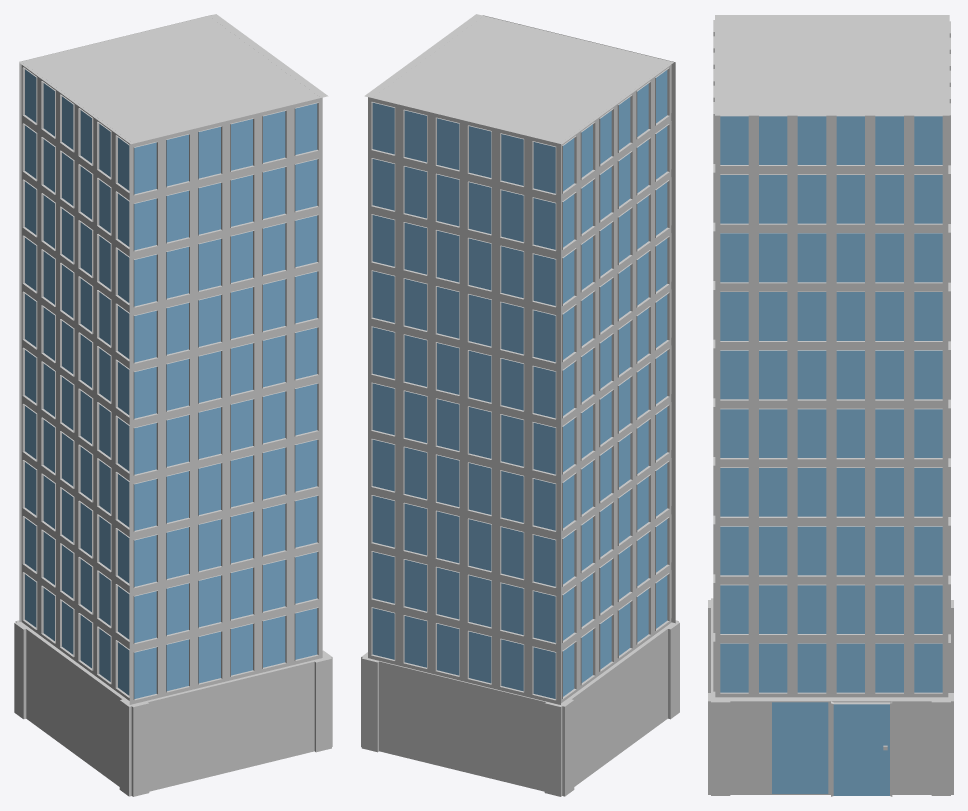
File: 2ndbuilding 1.fbx
3 views of the same model, side by side, from view 1: azimuth 30°, elevation 25°; view 2: azimuth 150°, elevation 25°; view 3: azimuth 270°, elevation 25° (orthographic). The views are drawn at different scales.
Visible parts, largest first — view 1: Cube; view 2: Cube; view 3: Cube.
Part boxes in pixels (x1,y1,x2,y2): Cube: (14, 14, 332, 796); Cube: (361, 14, 679, 796); Cube: (708, 15, 953, 796).
Size of the model in its own units: 1932 by 5795 by 1900.
